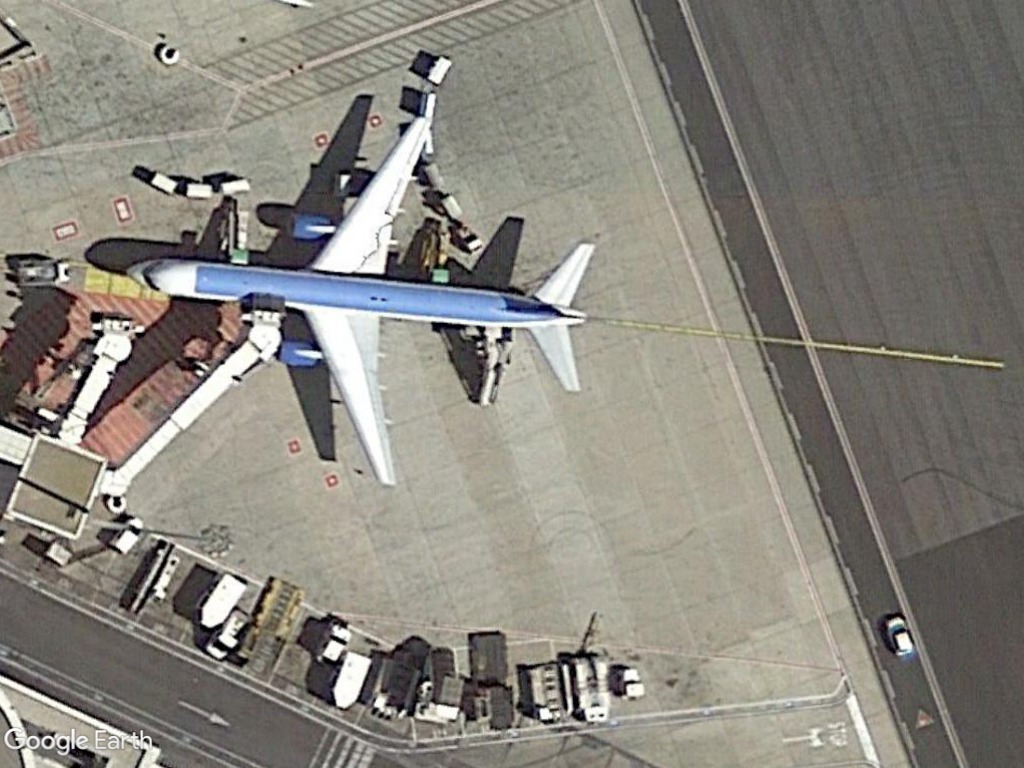airliner: (120, 109, 596, 489)
car: (880, 611, 915, 659)
pushbacktruck: (12, 256, 76, 289)
van: (107, 512, 145, 557)
